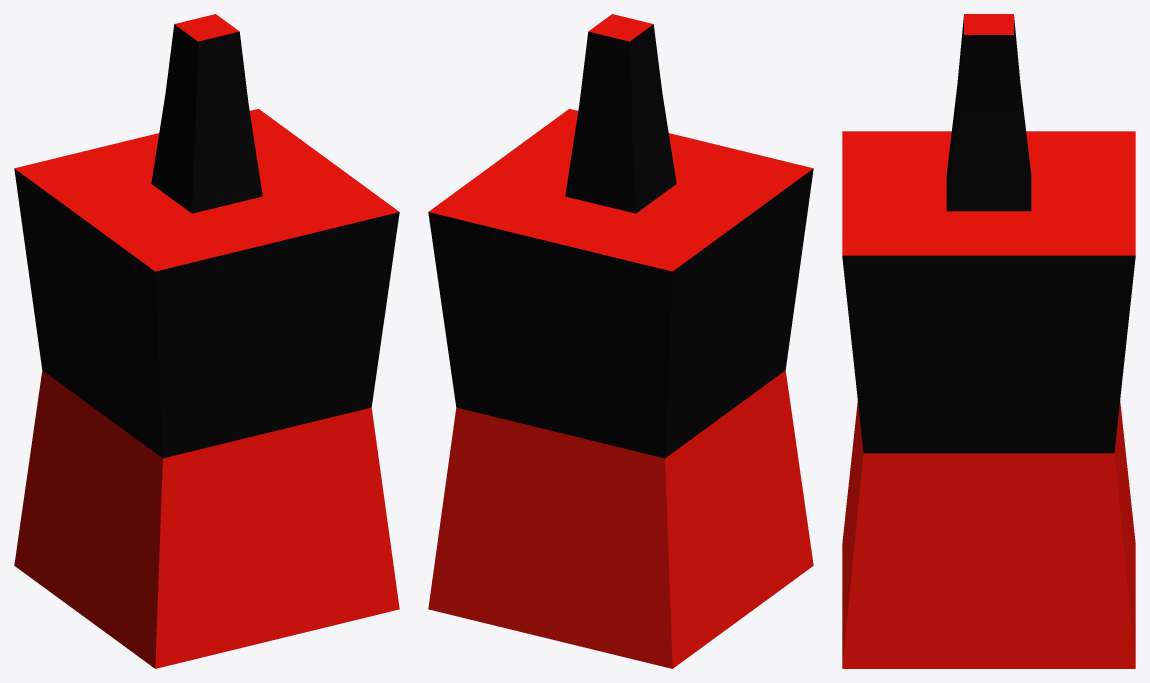
Rendered from bottle3.fbx.
3 views of the same model, side by side, from view 1: azimuth 30°, elevation 25°; view 2: azimuth 150°, elevation 25°; view 3: azimuth 270°, elevation 25° (orthographic). The views are drawn at different scales.
Visible parts, largest first — view 1: bottle1.002; view 2: bottle1.002; view 3: bottle1.002.
Part boxes in pixels (<box>): bottle1.002: <box>14,14,399,668</box>; bottle1.002: <box>428,14,813,668</box>; bottle1.002: <box>842,14,1135,668</box>.
Bounding box in the file's own units: 0.0283 × 0.0619 × 0.0283.
